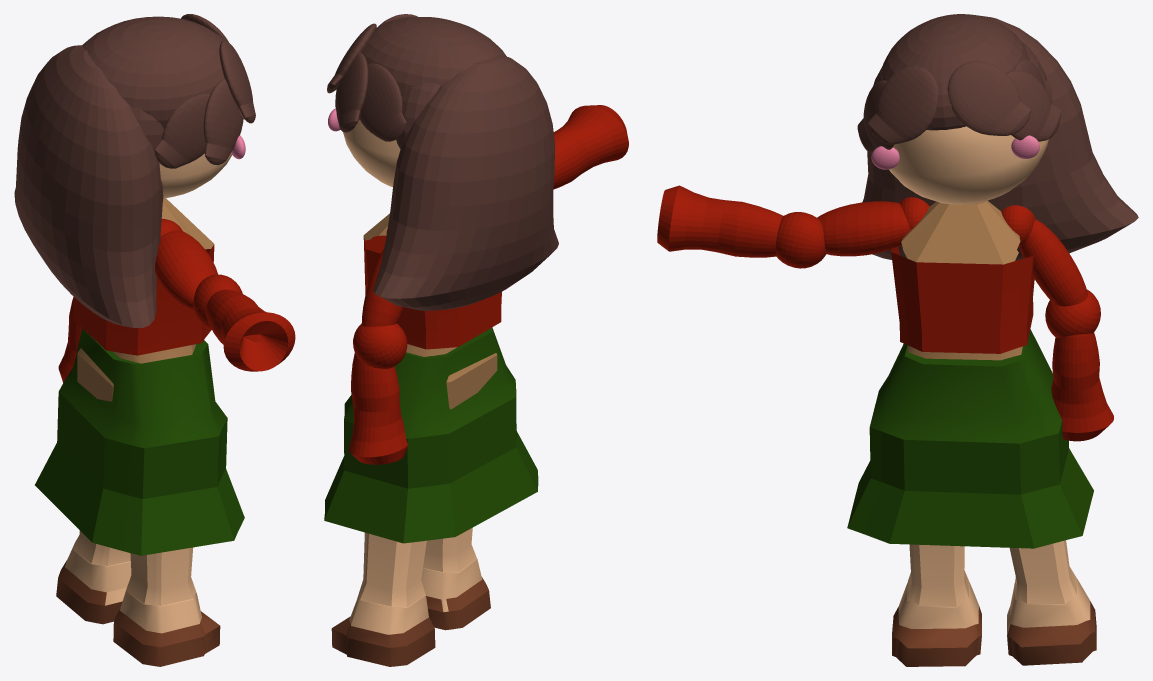
File: taller girl r.fbx
3 renders of one model, left to right at view 1: azimuth 30°, elevation 25°; view 2: azimuth 150°, elevation 25°; view 3: azimuth 270°, elevation 25°, orthographic. The views are drawn at different scales.
Visible parts, largest first — view 1: trousers.021, Sphere.265, Sphere.263, Cube.078, Sphere.272, Cube.070, Cube.077, Sphere.274, Cube.076, Sphere.261, Sphere.264, Cube.079 (+6 smaller); view 2: Sphere.265, trousers.021, Sphere.263, Cube.076, Sphere.273, Cube.070, Sphere.272, Cube.079, Cube.078, Sphere.261, Sphere.266, Sphere.268 (+5 smaller); view 3: trousers.021, Sphere.265, Cube.070, Sphere.262, Sphere.266, Sphere.263, Sphere.272, Cube.073, Cube.078, Cube.076, Sphere.273, Sphere.274 (+9 smaller).
Part boxes in pixels (box(x1,y1,x2,y2)): trousers.021: box(35, 328, 244, 555); Sphere.265: box(14, 45, 163, 327); Sphere.263: box(83, 16, 224, 150); Cube.078: box(119, 547, 201, 633); Sphere.272: box(206, 289, 295, 371); Cube.070: box(73, 244, 214, 355); Cube.077: box(113, 607, 220, 666); Sphere.274: box(155, 230, 217, 310); Cube.076: box(65, 530, 131, 605); Sphere.261: box(154, 93, 209, 168); Sphere.264: box(203, 79, 243, 165); Cube.079: box(56, 560, 122, 624); Sphere.265: box(373, 55, 558, 310); trousers.021: box(324, 327, 538, 543); Sphere.263: box(362, 17, 506, 148); Cube.076: box(349, 532, 428, 634); Sphere.273: box(349, 352, 407, 464); Cube.070: box(363, 235, 501, 349); Sphere.272: box(553, 105, 628, 189); Cube.079: box(331, 616, 435, 666); Cube.078: box(421, 528, 482, 612); Sphere.261: box(359, 63, 406, 141); Sphere.266: box(343, 119, 400, 187); Sphere.268: box(353, 323, 407, 368); trousers.021: box(847, 329, 1093, 548); Sphere.265: box(862, 14, 1138, 260); Cube.070: box(891, 247, 1034, 353); Sphere.262: box(868, 61, 1031, 144); Sphere.266: box(889, 126, 1048, 204); Sphere.263: box(881, 14, 1047, 130); Sphere.272: box(657, 185, 782, 257); Cube.073: box(901, 200, 1020, 264); Cube.078: box(898, 544, 978, 628); Cube.076: box(1007, 540, 1090, 635); Sphere.273: box(1051, 332, 1113, 441); Sphere.274: box(817, 201, 910, 256).
Bounding box in the file's own units: 239 × 723 × 509.
